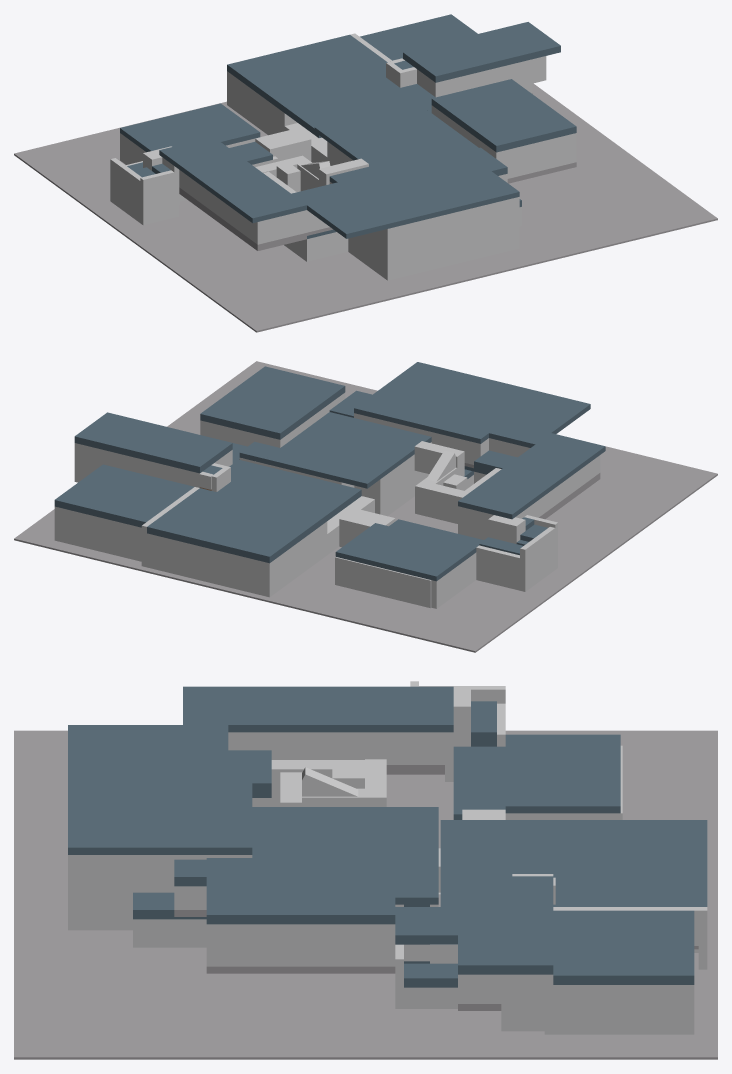
Rendered from thefacility2.glb.
3 renders of one model, top to bottom at view 1: azimuth 30°, elevation 25°; view 2: azimuth 150°, elevation 25°; view 3: azimuth 270°, elevation 25°, orthographic. The views are drawn at different scales.
Visible parts, largest first — view 1: thefacility2-col; view 2: thefacility2-col; view 3: thefacility2-col.
Boxes of the visible parts, box(x1,y1,x2,y2) form: thefacility2-col: box(14, 14, 717, 332); thefacility2-col: box(14, 361, 717, 652); thefacility2-col: box(14, 681, 717, 1059).
Bounding box in the file's own units: 357 × 46.8 × 325.
